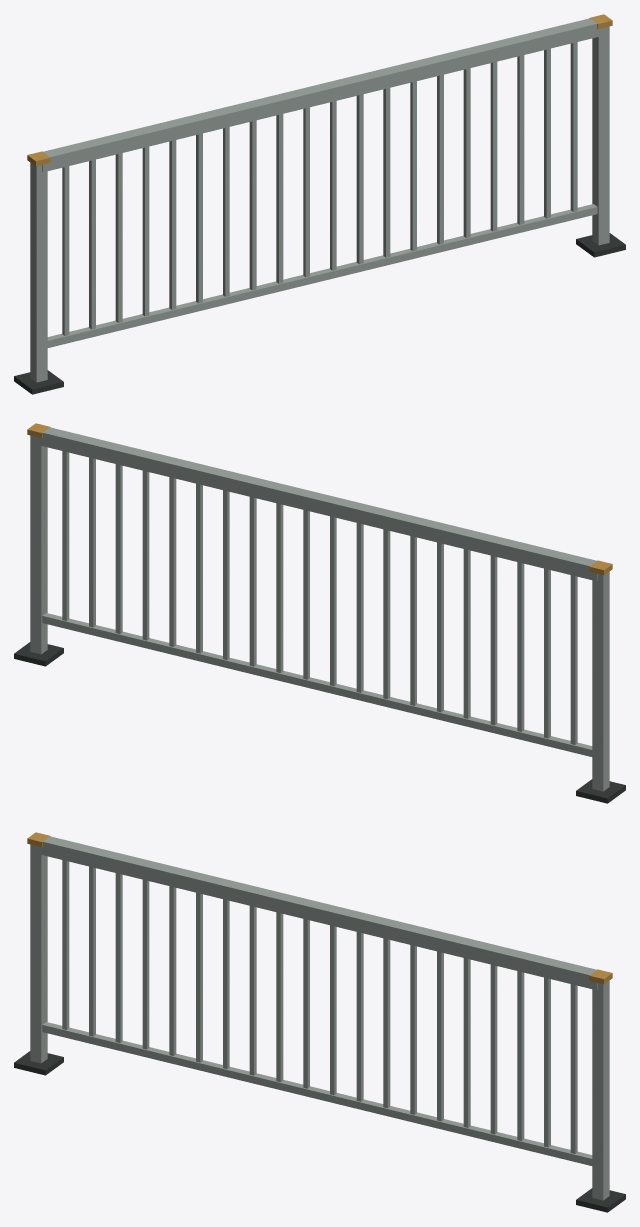
File: railing-straight.glb
3 views of the same model, one above another, from view 1: azimuth 30°, elevation 25°; view 2: azimuth 150°, elevation 25°; view 3: azimuth 330°, elevation 25° (orthographic).
Parts seen in each view (by area): view 1: railing_baluster (×20), railing_handrail, post_stem (×2), railing_lower_rail, post_base (×2); view 2: railing_baluster (×20), railing_handrail, post_stem (×2), railing_lower_rail, post_base (×2); view 3: railing_baluster (×20), railing_handrail, post_stem (×2), railing_lower_rail, post_base (×2).
Boxes of the visible parts, box(x1,y1,x2,y2) form: railing_baluster (×20): box(62, 42, 577, 335); railing_handrail: box(39, 18, 604, 172); post_stem (×2): box(30, 26, 609, 382); railing_lower_rail: box(47, 204, 597, 347); post_base (×2): box(14, 233, 625, 394); railing_baluster (×20): box(62, 451, 577, 744); railing_handrail: box(35, 426, 597, 581); post_stem (×2): box(30, 435, 609, 791); railing_lower_rail: box(42, 613, 592, 756); post_base (×2): box(14, 642, 625, 803); railing_baluster (×20): box(62, 860, 577, 1153); railing_handrail: box(35, 835, 597, 990); post_stem (×2): box(30, 844, 609, 1200); railing_lower_rail: box(42, 1022, 592, 1165); post_base (×2): box(14, 1051, 625, 1212).
Size of the model in its own units: 3 by 1.1 by 0.16.
Materials: 3 (3 with a texture image).
